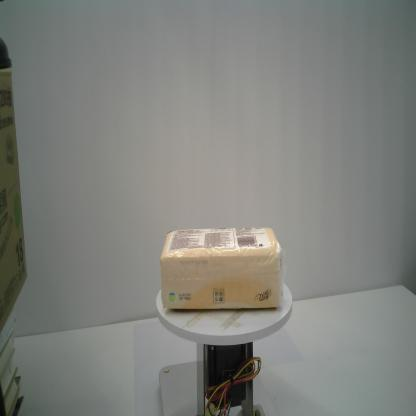Tissue: (159, 228, 285, 310)
